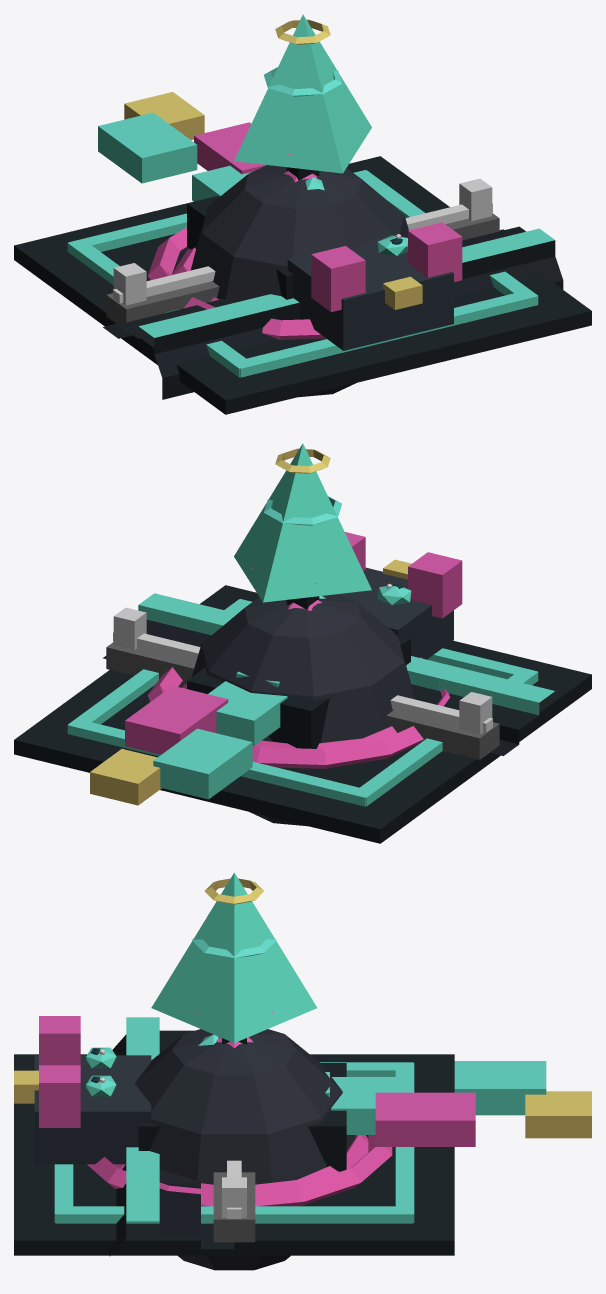
File: neon.glb
The picture shows the model from 3 angles, top to bottom: view 1: azimuth 30°, elevation 25°; view 2: azimuth 150°, elevation 25°; view 3: azimuth 270°, elevation 25°; orthographic projection. The views are drawn at different scales.
Visible parts, largest first — view 1: tile_a, ball, squirrel_body, edge_a, tree_a, squirrel_tail, wall, goal, tree_b, squirrel_eye_r; view 2: tile_a, ball, squirrel_tail, tree_a, squirrel_body, wall, edge_a, goal, tree_b, squirrel_eye_l; view 3: tile_a, ball, squirrel_body, squirrel_tail, tree_a, edge_a, goal, wall, tree_b, squirrel_eye_l, squirrel_eye_r.
Part boxes in pixels (x1=…): tile_a: x1=14, y1=156, x2=591, y2=414; ball: x1=172, y1=165, x2=408, y2=397; squirrel_body: x1=187, y1=196, x2=462, y2=350; edge_a: x1=103, y1=226, x2=563, y2=399; tree_a: x1=234, y1=14, x2=371, y2=180; squirrel_tail: x1=98, y1=92, x2=266, y2=201; wall: x1=106, y1=178, x2=499, y2=330; goal: x1=148, y1=227, x2=325, y2=339; tree_b: x1=264, y1=19, x2=353, y2=154; squirrel_eye_r: x1=377, y1=234, x2=407, y2=256; tile_a: x1=14, y1=585, x2=591, y2=843; ball: x1=181, y1=594, x2=414, y2=826; squirrel_tail: x1=90, y1=681, x2=287, y2=805; tree_a: x1=234, y1=443, x2=371, y2=609; squirrel_body: x1=187, y1=532, x2=462, y2=748; wall: x1=106, y1=607, x2=499, y2=759; edge_a: x1=103, y1=593, x2=554, y2=755; goal: x1=148, y1=657, x2=450, y2=768; tree_b: x1=252, y1=448, x2=341, y2=583; squirrel_eye_l: x1=377, y1=583, x2=411, y2=605; tile_a: x1=14, y1=1054, x2=454, y2=1255; ball: x1=114, y1=1029, x2=368, y2=1270; squirrel_body: x1=14, y1=1016, x2=346, y2=1171; squirrel_tail: x1=331, y1=1061, x2=591, y2=1146; tree_a: x1=151, y1=872, x2=317, y2=1043; edge_a: x1=109, y1=1017, x2=234, y2=1256; goal: x1=87, y1=1135, x2=392, y2=1206; wall: x1=213, y1=1160, x2=255, y2=1242; tree_b: x1=192, y1=878, x2=276, y2=1013; squirrel_eye_l: x1=86, y1=1047, x2=116, y2=1068; squirrel_eye_r: x1=86, y1=1075, x2=116, y2=1096.
Size of the model in its own units: 1.16 by 1.03 by 1.39.
